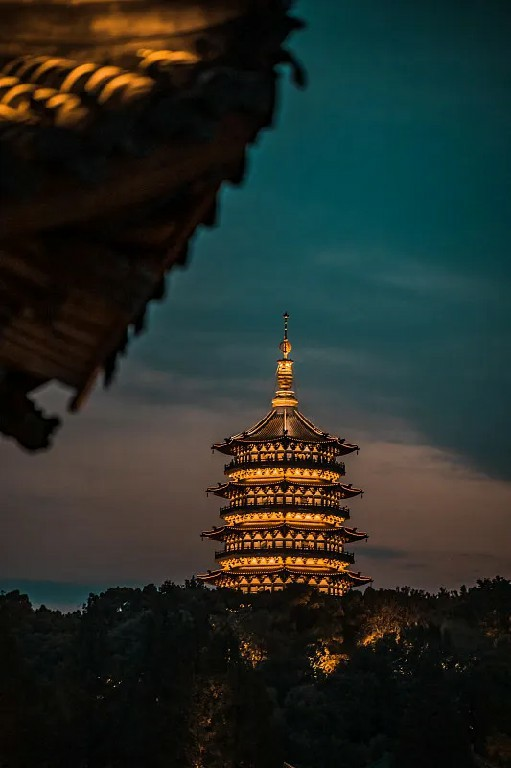Leifeng: (189, 305, 376, 595)
